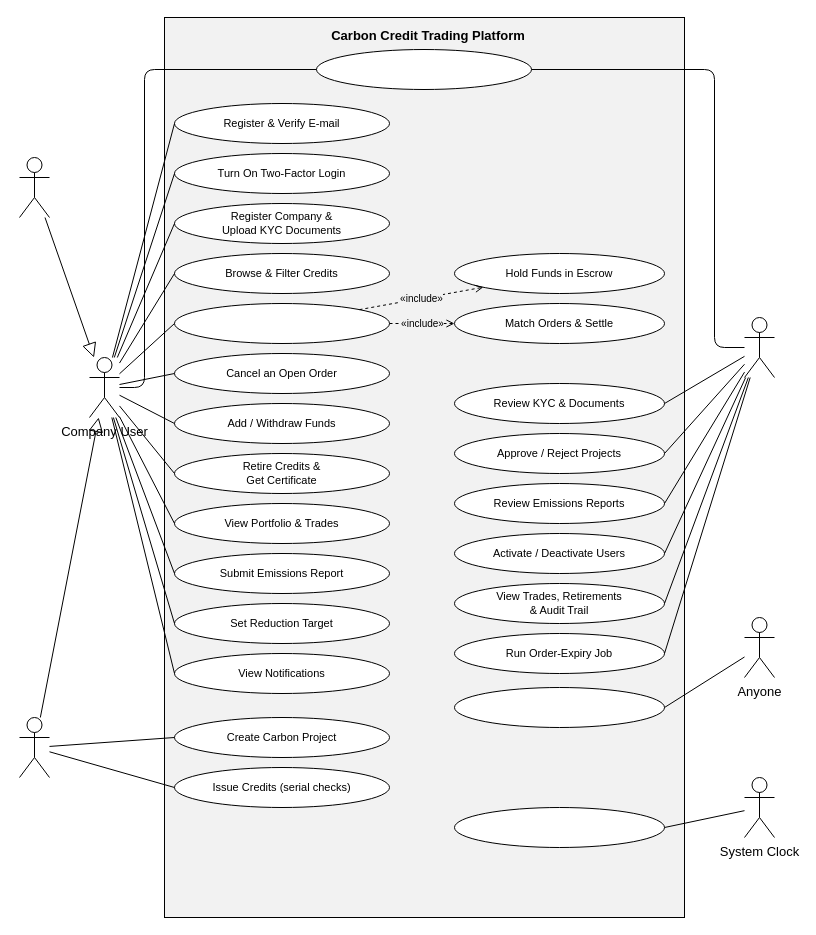
The diagram is 816 pixels wide and 935 high, and some of its shapes have lost their labels. Here are the shapes that lost their labels. From the top down, the box of each, then its label:
(316, 48, 532, 90): Log In (password + 2FA code)
(18, 156, 50, 218): Buyer
(174, 302, 390, 344): Place Buy / Sell Order
(744, 316, 774, 378): Administrator
(454, 686, 664, 728): Verify a Certificate
(18, 716, 50, 778): Seller
(454, 806, 664, 848): Expire Overdue Orders
